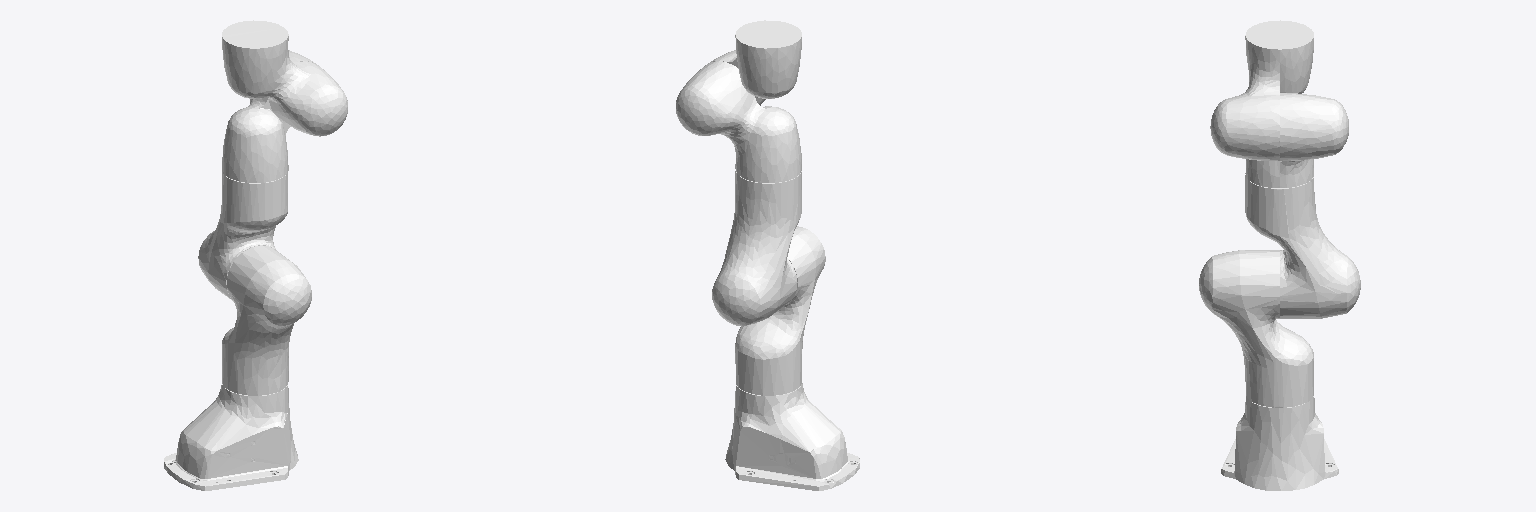
The robot description file, URDF, robot "panda":
<?xml version="1.0"?>
<robot name="panda"
    xmlns:xacro="http://www.ros.org/wiki/xacro">
    <link name="base_link">
        <visual>
            <geometry>
                <mesh filename="link0.stl"/>
            </geometry>
            <material name="panda_white"/>
        </visual>
        <collision>
            <geometry>
                <mesh filename="link0.stl"/>
            </geometry>
            <material name="panda_white"/>
        </collision>
        <inertial>
            <mass value="2.92" />
            <origin xyz="-0.025566 -2.88e-05 0.057332" rpy="0 0 0" />
            <inertia ixx="0.00782229414331" ixy="-1.56191622996e-05" ixz="-0.00126005738123" iyy="0.0109027971813" iyz="1.08233858202e-05" izz="0.0102355503949" />
        </inertial>
    </link>
    <link name="panda_link1">
        <visual>
            <geometry>
                <mesh filename="link1.stl"/>
            </geometry>
            <material name="panda_white"/>
        </visual>
        <collision>
            <geometry>
                <mesh filename="link1.stl"/>
            </geometry>
            <material name="panda_white"/>
        </collision>
        <inertial>
            <mass value="2.74" />
            <origin xyz="0 -0.0324958 -0.0675818" rpy="0 0 0" />
            <inertia ixx="0.0180416958283" ixy="0.0" ixz="0.0" iyy="0.0159136071891" iyz="0.0046758424612" izz="0.00620690827127" />
        </inertial>
    </link>
    <joint name="panda_joint1" type="revolute">
        <safety_controller k_position="100.0" k_velocity="40.0" soft_lower_limit="-2.8973" soft_upper_limit="2.8973"/>
        <origin rpy="0 0 0" xyz="0 0 0.333"/>
        <parent link="base_link"/>
        <child link="panda_link1"/>
        <axis xyz="0 0 1"/>
        <limit effort="87" lower="-2.9671" upper="2.9671" velocity="2.1750"/>
    </joint>
    <link name="panda_link2">
        <visual>
            <geometry>
                <mesh filename="link2.stl"/>
            </geometry>
            <material name="panda_white"/>
        </visual>
        <collision>
            <geometry>
                <mesh filename="link2.stl"/>
            </geometry>
            <material name="panda_white"/>
        </collision>
        <inertial>
            <mass value="2.74" />
            <origin xyz="0 -0.06861 0.0322285" rpy="0 0 0" />
            <inertia ixx="0.0182856182281" ixy="0.0" ixz="0.0" iyy="0.00621358421175" iyz="-0.00472844221905" izz="0.0161514346309" />
        </inertial>
    </link>
    <joint name="panda_joint2" type="revolute">
        <safety_controller k_position="100.0" k_velocity="40.0" soft_lower_limit="-1.7628" soft_upper_limit="1.7628"/>
        <origin rpy="-1.57079632679 0 0" xyz="0 0 0"/>
        <parent link="panda_link1"/>
        <child link="panda_link2"/>
        <axis xyz="0 0 1"/>
        <limit effort="87" lower="-1.8326" upper="1.8326" velocity="2.1750"/>
    </joint>
    <link name="panda_link3">
        <visual>
            <geometry>
                <mesh filename="link3.stl"/>
            </geometry>
            <material name="panda_white"/>
        </visual>
        <collision>
            <geometry>
                <mesh filename="link3.stl"/>
            </geometry>
            <material name="panda_white"/>
        </collision>
        <inertial>
            <mass value="2.38" />
            <origin xyz="0.0469893 0.0316374 -0.031704" rpy="0 0 0" />
            <inertia ixx="0.00771376630908" ixy="-0.00248490625138" ixz="-0.00332147581033" iyy="0.00989108008727" iyz="-0.00217796151484" izz="0.00811723558464" />
        </inertial>
    </link>
    <joint name="panda_joint3" type="revolute">
        <safety_controller k_position="100.0" k_velocity="40.0" soft_lower_limit="-2.8973" soft_upper_limit="2.8973"/>
        <origin rpy="1.57079632679 0 0" xyz="0 -0.316 0"/>
        <parent link="panda_link2"/>
        <child link="panda_link3"/>
        <axis xyz="0 0 1"/>
        <limit effort="87" lower="-2.9671" upper="2.9671" velocity="2.1750"/>
    </joint>
    <link name="panda_link4">
        <visual>
            <geometry>
                <mesh filename="link4.stl"/>
            </geometry>
            <material name="panda_white"/>
        </visual>
        <collision>
            <geometry>
                <mesh filename="link4.stl"/>
            </geometry>
            <material name="panda_white"/>
        </collision>
        <inertial>
            <mass value="2.38" />
            <origin xyz="-0.0360446 0.0336853 0.031882" rpy="0 0 0" />
            <inertia ixx="0.00799663881132" ixy="0.00347095570217" ixz="-0.00241222942995" iyy="0.00825390705278" iyz="0.00235774044121" izz="0.0102515004345" />
        </inertial>
    </link>
    <joint name="panda_joint4" type="revolute">
        <safety_controller k_position="100.0" k_velocity="40.0" soft_lower_limit="-3.0718" soft_upper_limit="-0.0698"/>
        <origin rpy="1.57079632679 0 0" xyz="0.0825 0 0"/>
        <parent link="panda_link3"/>
        <child link="panda_link4"/>
        <axis xyz="0 0 1"/>
        <limit effort="87" lower="-3.1416" upper="0.0" velocity="2.1750"/>
    </joint>

    <link name="panda_link5">
        <visual>
            <geometry>
                <mesh filename="link3.stl"/>
            </geometry>
            <material name="panda_white"/>
        </visual>
        <collision>
            <geometry>
                <mesh filename="link3.stl"/>
            </geometry>
            <material name="panda_white"/>
        </collision>
        <inertial>
            <mass value="2.38" />
            <origin xyz="0.0469893 0.0316374 -0.031704" rpy="0 0 0" />
            <inertia ixx="0.00771376630908" ixy="-0.00248490625138" ixz="-0.00332147581033" iyy="0.00989108008727" iyz="-0.00217796151484" izz="0.00811723558464" />
        </inertial>
    </link>
    <joint name="panda_joint5" type="revolute">
        <safety_controller k_position="100.0" k_velocity="40.0" soft_lower_limit="-2.8973" soft_upper_limit="2.8973"/>
        <origin rpy="1.57079632679 0 0" xyz="0 -0.316 0"/>
        <parent link="panda_link2"/>
        <child link="panda_link5"/>
        <axis xyz="0 0 1"/>
        <limit effort="87" lower="-2.9671" upper="2.9671" velocity="2.1750"/>
    </joint>
    <link name="panda_link6">
        <visual>
            <geometry>
                <mesh filename="link4.stl"/>
            </geometry>
            <material name="panda_white"/>
        </visual>
        <collision>
            <geometry>
                <mesh filename="link4.stl"/>
            </geometry>
            <material name="panda_white"/>
        </collision>
        <inertial>
            <mass value="2.38" />
            <origin xyz="-0.0360446 0.0336853 0.031882" rpy="0 0 0" />
            <inertia ixx="0.00799663881132" ixy="0.00347095570217" ixz="-0.00241222942995" iyy="0.00825390705278" iyz="0.00235774044121" izz="0.0102515004345" />
        </inertial>
    </link>
    <joint name="panda_joint6" type="revolute">
        <safety_controller k_position="100.0" k_velocity="40.0" soft_lower_limit="-3.0718" soft_upper_limit="-0.0698"/>
        <origin rpy="1.57079632679 0 0" xyz="0.0825 0 0"/>
        <parent link="panda_link5"/>
        <child link="panda_link6"/>
        <axis xyz="0 0 1"/>
        <limit effort="87" lower="-3.1416" upper="0.0" velocity="2.1750"/>
    </joint>

    <material name="panda_white">
        <color rgba="1. 1. 1. 1."/>
    </material>
</robot>

--- What the picture shows (computed from the rendered views, not written in the file) ---
The picture shows the robot from 3 angles, left to right: view 1: azimuth 30°, elevation 25°; view 2: azimuth 150°, elevation 25°; view 3: azimuth 270°, elevation 25°; orthographic projection.
Model panda with 7 links and 6 joints (6 revolute), rooted at base_link, posed all joints at 0.
Visible links, largest first — view 1: base_link, panda_link1, panda_link4, panda_link2, panda_link3; view 2: base_link, panda_link2, panda_link3, panda_link1, panda_link4; view 3: panda_link1, panda_link2, panda_link4, base_link, panda_link3.
Boxes of the visible links, bbox=[...] form: base_link: bbox=[164, 384, 298, 490]; panda_link1: bbox=[222, 245, 311, 395]; panda_link4: bbox=[222, 20, 347, 136]; panda_link2: bbox=[198, 172, 287, 301]; panda_link3: bbox=[222, 50, 315, 182]; base_link: bbox=[725, 383, 859, 490]; panda_link2: bbox=[712, 171, 801, 325]; panda_link3: bbox=[676, 61, 801, 182]; panda_link1: bbox=[735, 226, 825, 395]; panda_link4: bbox=[708, 20, 801, 105]; panda_link1: bbox=[1199, 250, 1313, 407]; panda_link2: bbox=[1245, 175, 1360, 318]; panda_link4: bbox=[1210, 20, 1313, 160]; base_link: bbox=[1221, 396, 1338, 490]; panda_link3: bbox=[1245, 93, 1348, 187].
Size in the robot's own frame: 0.2913 by 0.2588 by 0.773 metres.
7 mesh visuals loaded from 5 distinct referenced files (5 binary STL).